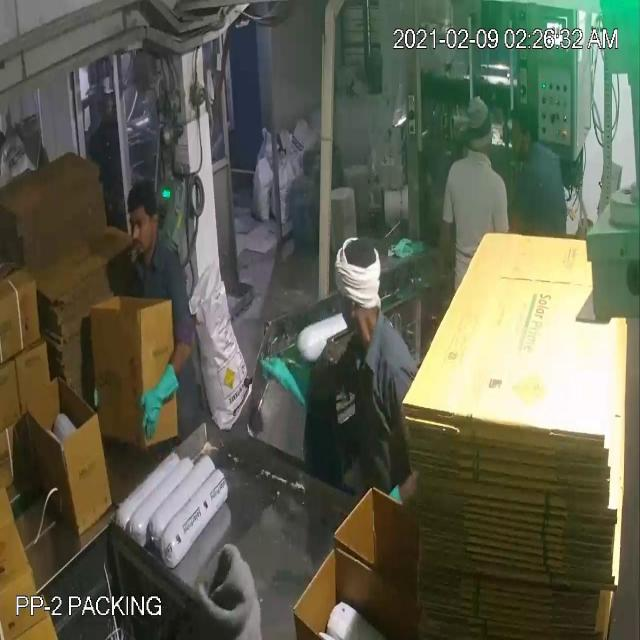Gloves: (49, 70, 298, 401)
